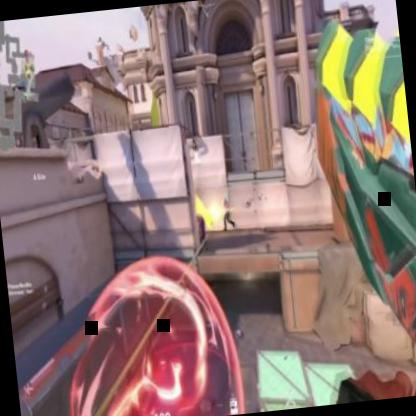enemy: (220, 197, 235, 228), (194, 212, 206, 250)
enemy_head: (198, 214, 202, 221), (222, 197, 226, 203)
